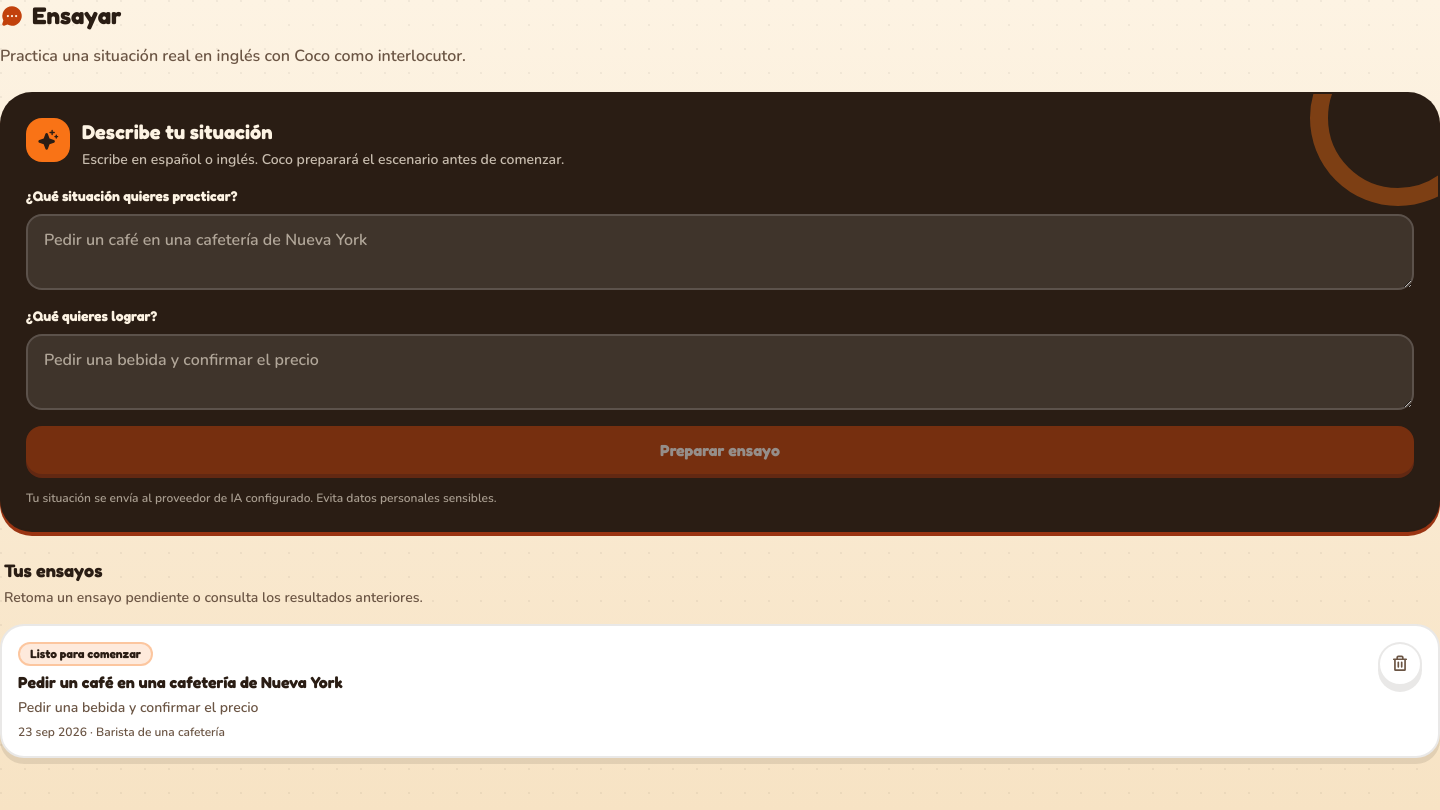
Test case: RehearsalsPage › deletes a rehearsal after confirmation
The width and height of the screenshot is (1440, 810).
What coordinates should you click on to do the following:
click the button named "Eliminar ensayo: Pedir un café en una cafetería de Nueva Yor"
I would click on:
 (1400, 664)
Its box is [1378,642,1422,686].
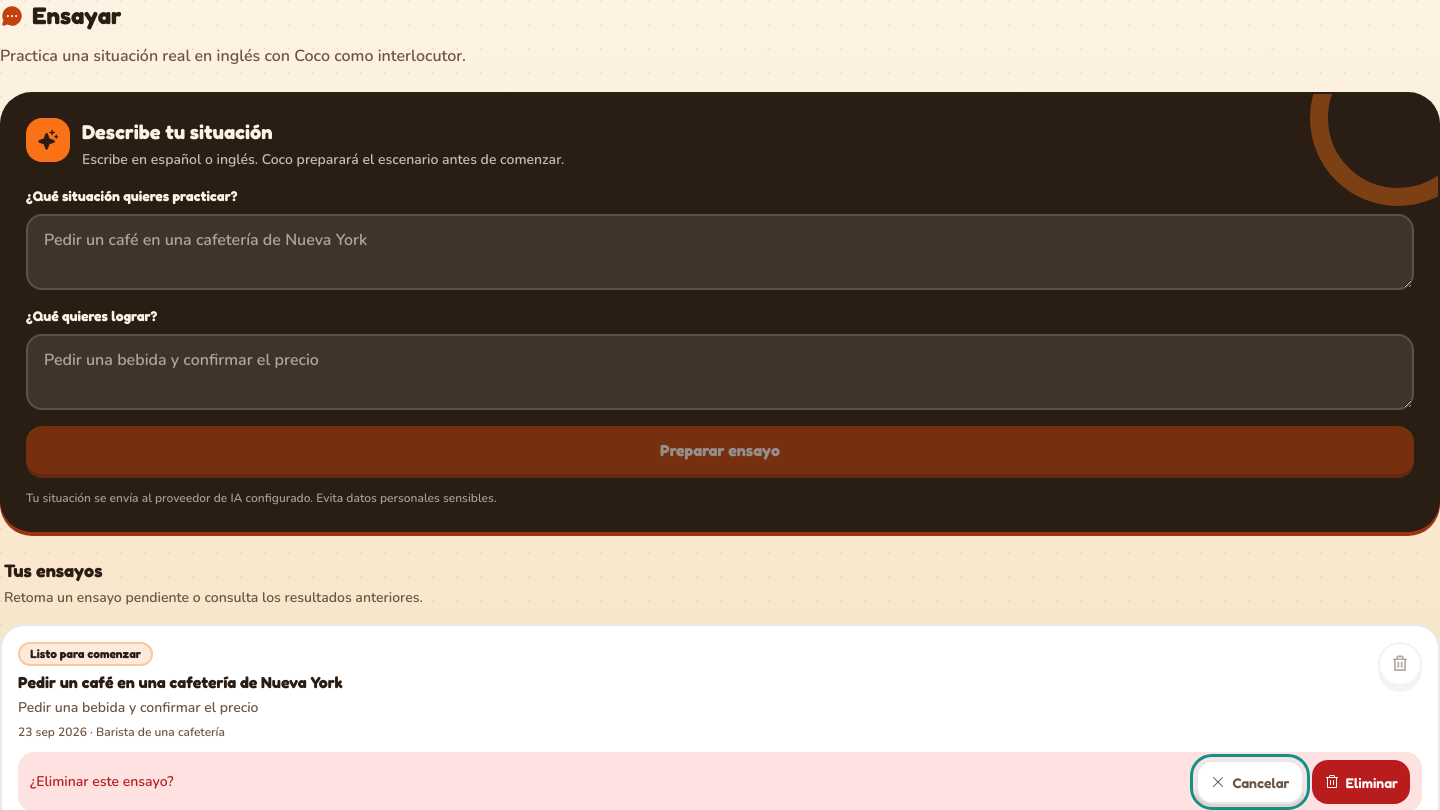
Result: the text "¿Eliminar este ensayo?" is shown at [30,772,174,792]
What coordinates should you click on to do the following:
click the button "Eliminar"
I would click on:
 (1361, 782)
Its box is [1312,760,1410,804].
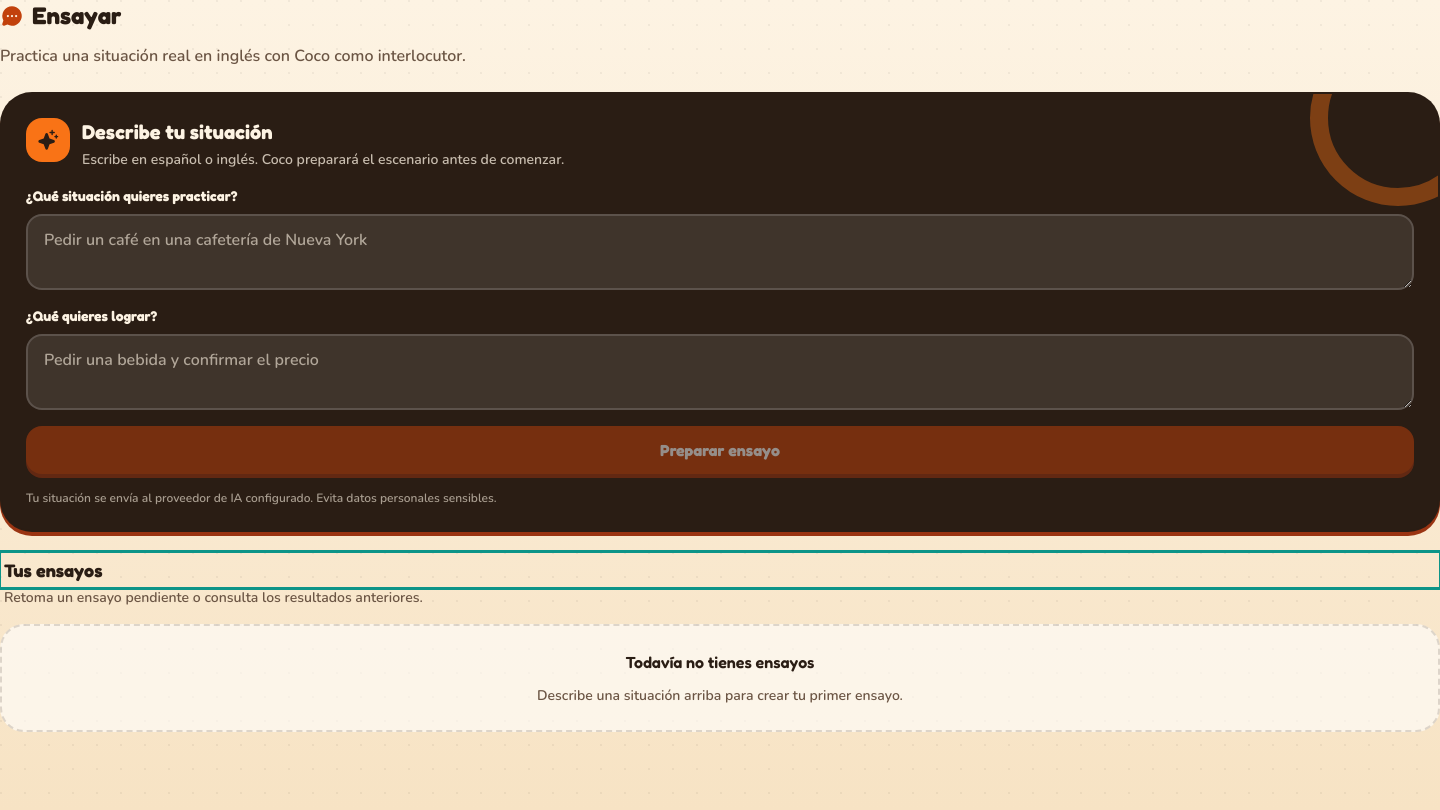
Result: the text "Todavía no tienes ensayos" is shown at [626,650,814,674]
